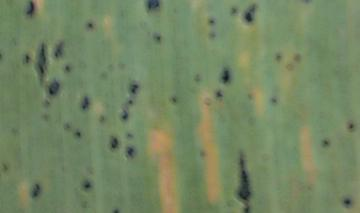tarspot: (236, 152, 252, 213), (35, 43, 48, 83), (243, 3, 256, 24), (147, 1, 160, 15), (54, 40, 64, 58), (80, 94, 90, 112), (26, 1, 36, 18), (49, 80, 60, 95), (32, 184, 41, 199), (222, 68, 230, 84), (111, 137, 119, 150), (23, 53, 31, 65), (131, 82, 139, 94), (152, 33, 162, 42), (214, 90, 224, 99), (63, 122, 72, 132), (198, 149, 207, 159), (121, 109, 129, 120), (1, 163, 10, 172), (63, 63, 71, 73), (125, 133, 135, 141), (41, 112, 51, 120), (127, 147, 134, 158), (194, 72, 201, 83), (270, 96, 278, 105), (275, 53, 283, 62), (98, 114, 106, 123), (230, 6, 237, 16), (344, 197, 351, 207), (86, 22, 94, 30), (75, 130, 82, 139), (294, 53, 301, 62), (300, 1, 312, 6), (84, 181, 91, 189), (207, 18, 215, 25), (322, 139, 330, 146), (43, 98, 51, 105), (100, 72, 108, 79), (349, 122, 355, 131), (127, 98, 134, 105), (172, 95, 177, 104), (113, 207, 119, 213), (210, 32, 216, 38), (1, 50, 4, 61)
